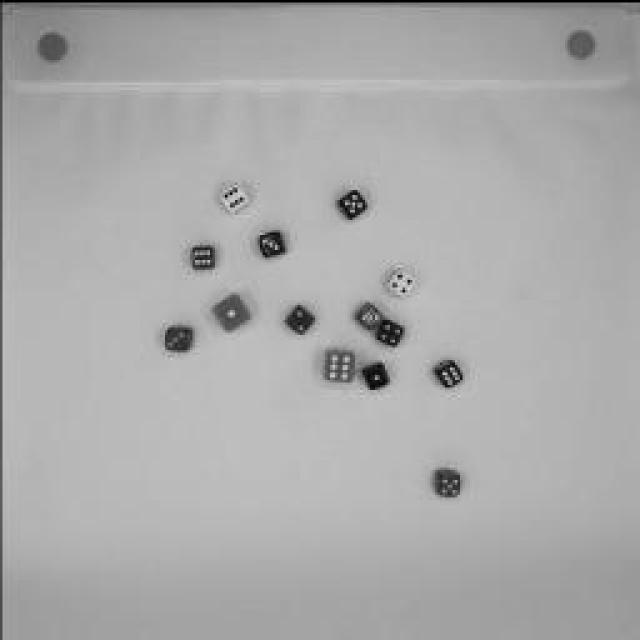dice_1: (209, 287, 256, 335), (358, 356, 392, 392)
dice_2: (282, 300, 320, 335)
dice_3: (350, 295, 385, 333), (255, 225, 290, 260), (160, 318, 195, 352)
dice_4: (385, 260, 417, 300), (374, 312, 408, 348)
dice_5: (331, 182, 374, 220), (430, 461, 462, 499)
dice_6: (430, 352, 465, 390), (215, 178, 253, 212), (186, 240, 222, 272)
